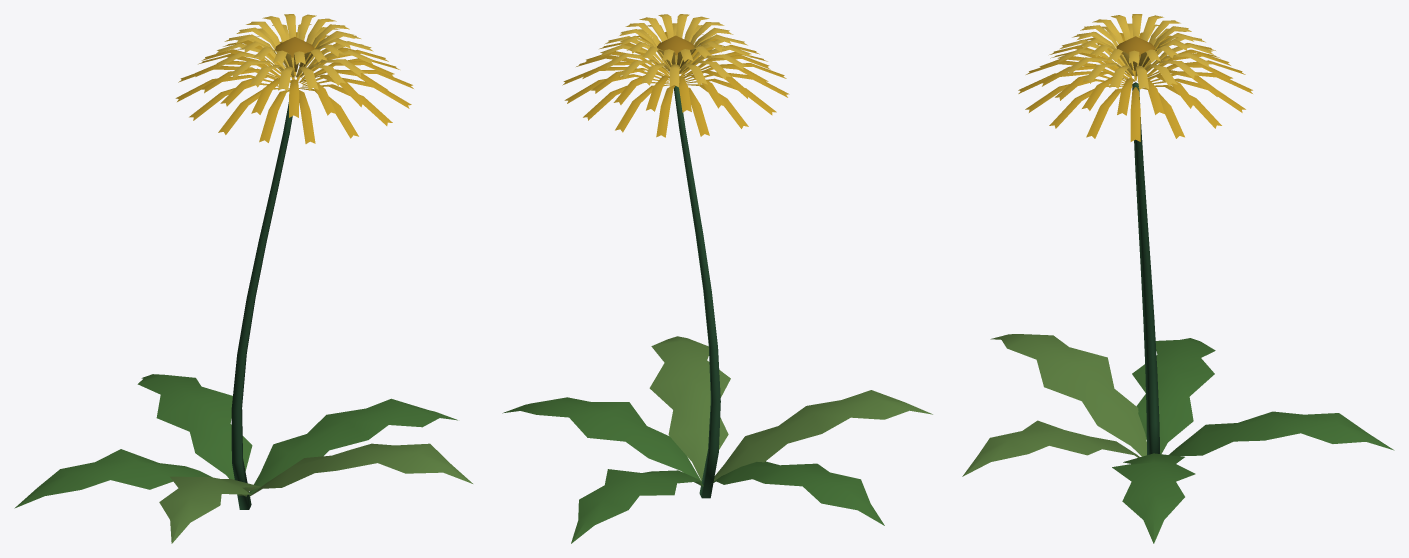
File: meadow_dandelion.glb
3 renders of one model, left to right at view 1: azimuth 30°, elevation 25°; view 2: azimuth 150°, elevation 25°; view 3: azimuth 270°, elevation 25°, orthographic. The views are drawn at different scales.
Visible parts, largest first — view 1: body; view 2: body; view 3: body.
Part boxes in pixels (x1,y1,x2,y2): body: (14,14,472,543); body: (502,14,932,543); body: (962,14,1394,543).
Bounding box in the file's own units: 0.3177 × 0.3383 × 0.2862.
